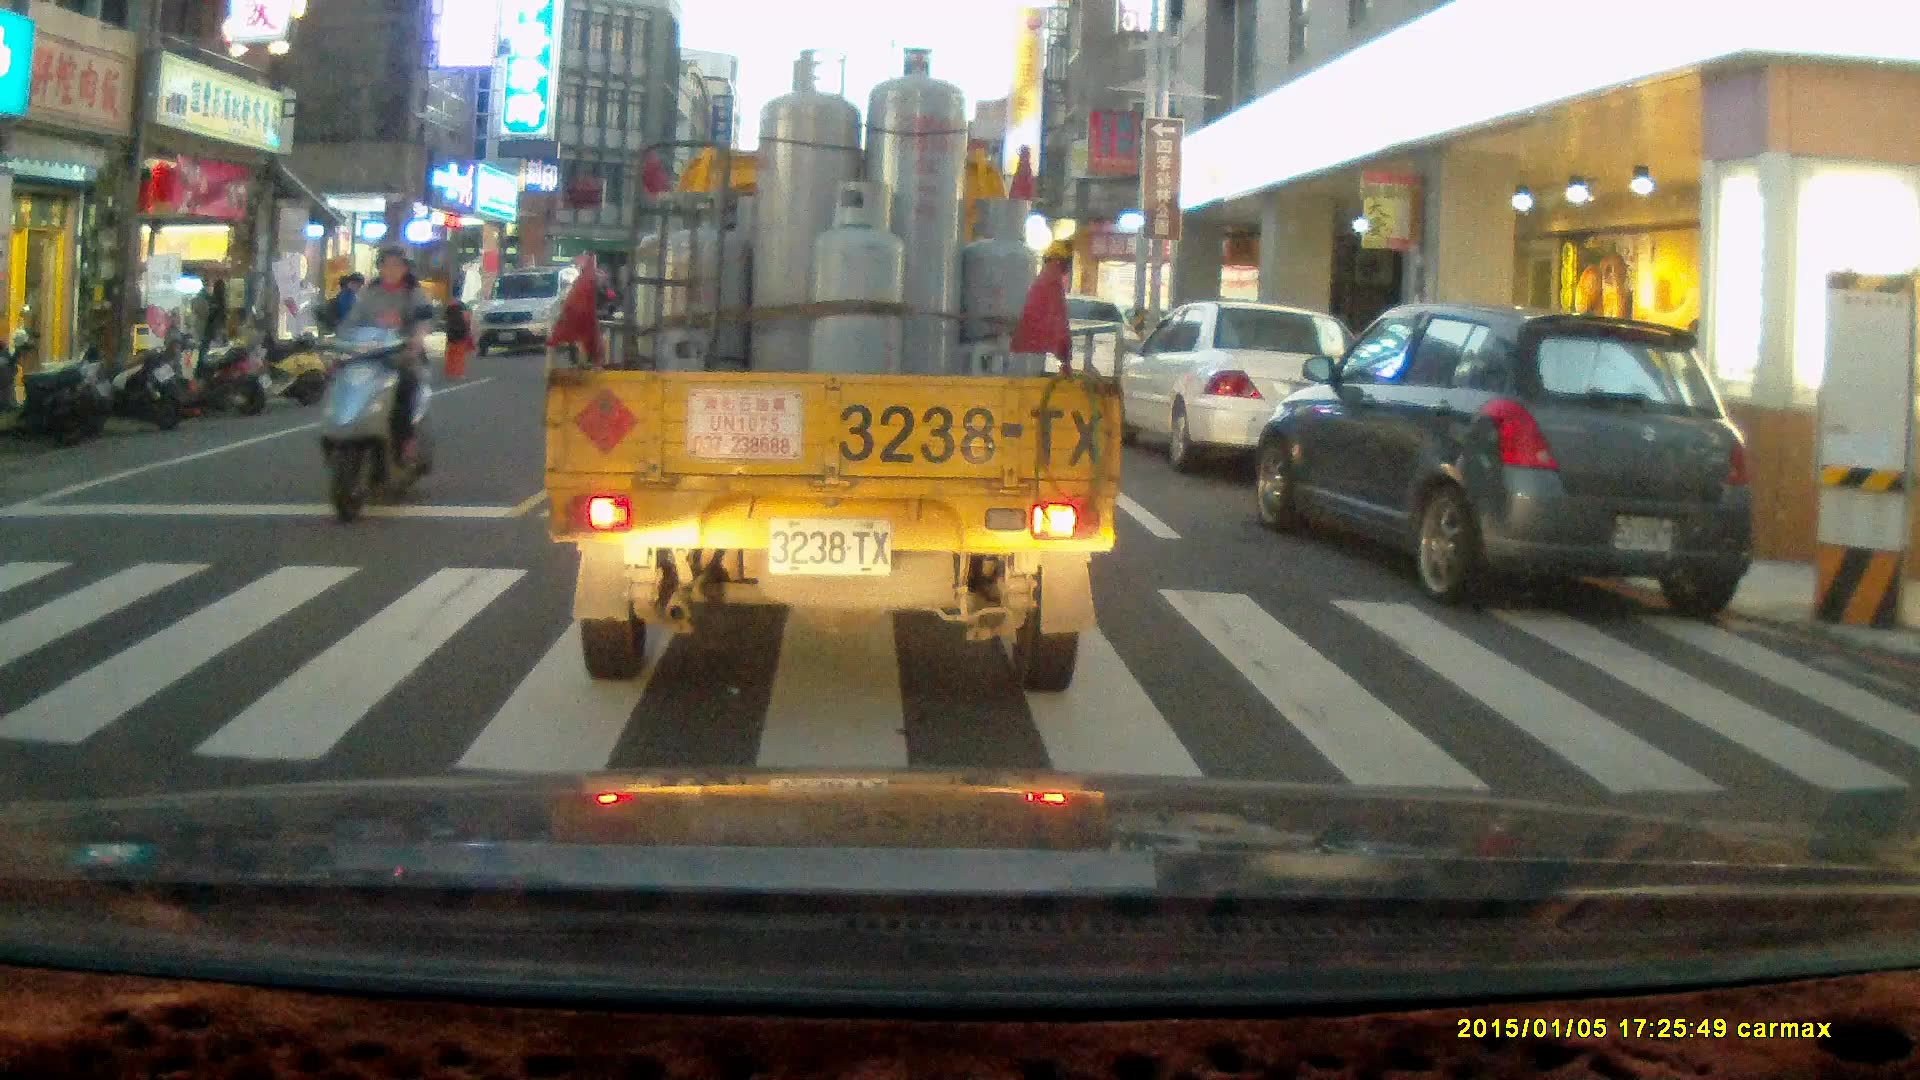pedestrian: (437, 277, 481, 373), (330, 267, 367, 379), (189, 273, 222, 378)
rider: (312, 237, 441, 523)
vehicle: (545, 61, 1120, 691), (1250, 297, 1758, 617), (1118, 301, 1367, 477), (1026, 295, 1160, 413), (467, 268, 584, 360)
